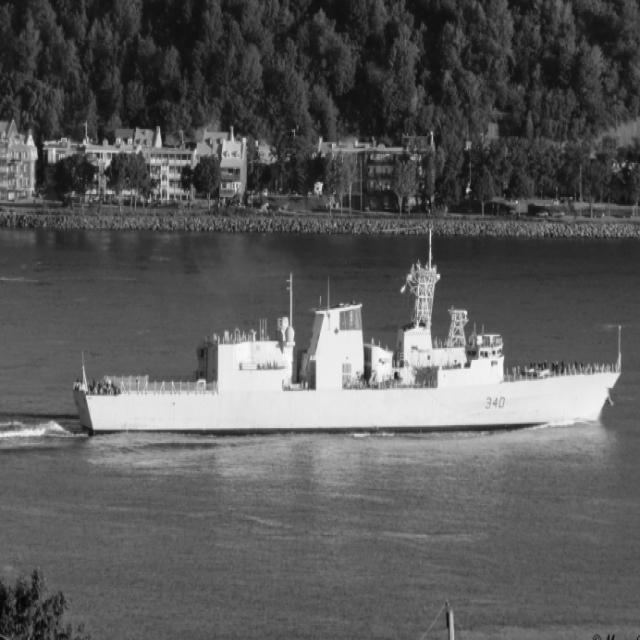Fragata: (66, 188, 632, 444)
